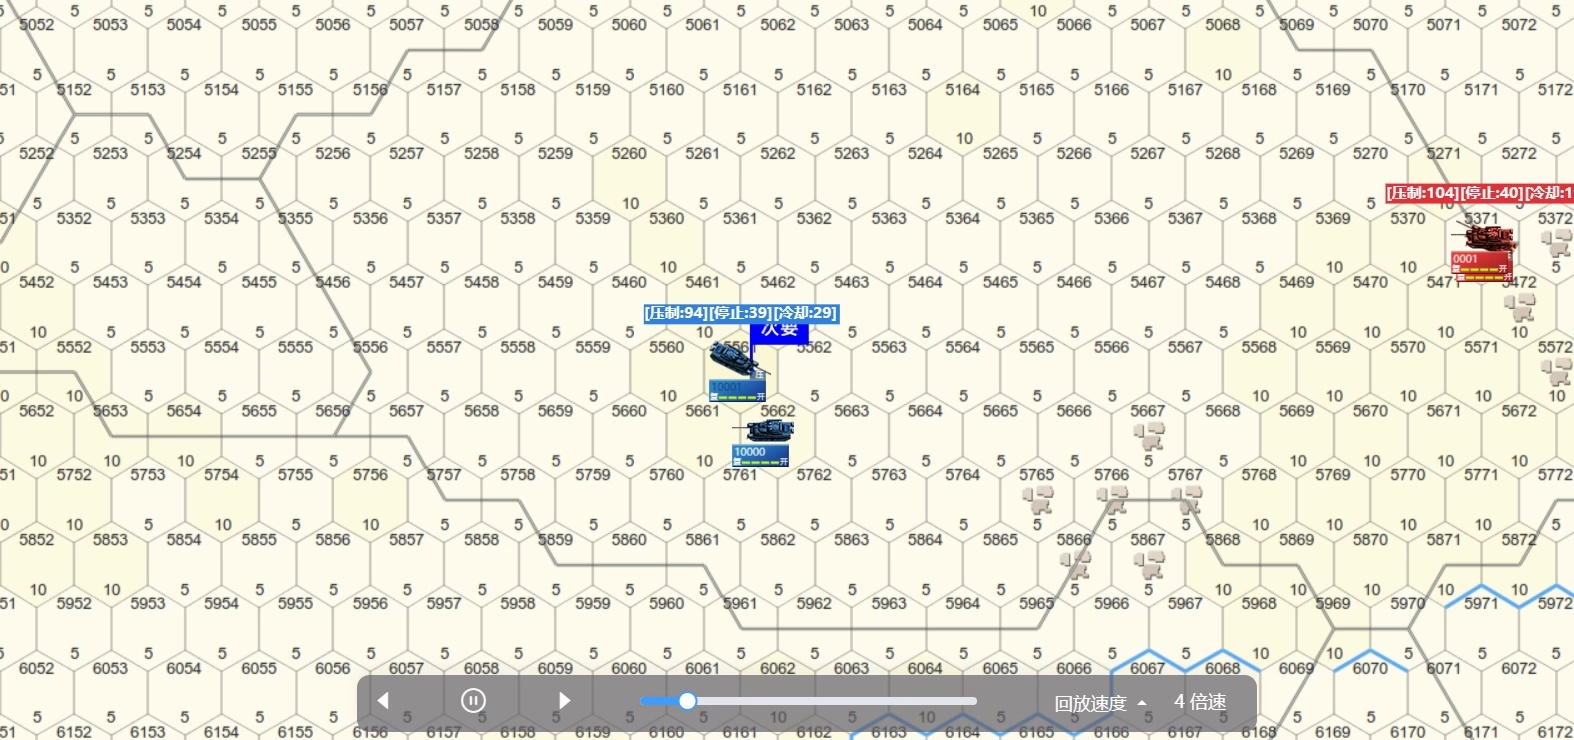blue_tank: (706, 342, 775, 400), (736, 426, 797, 467)
red_tank: (1448, 230, 1517, 286)
